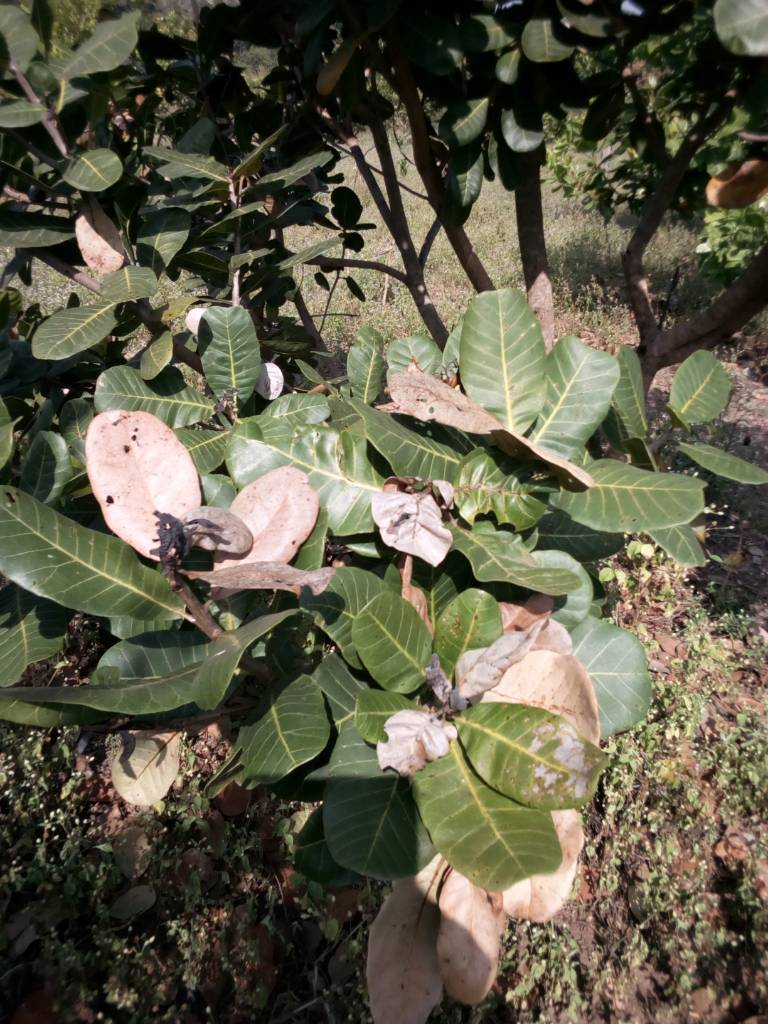Dessèchement des bourgeons: (129, 460, 246, 605)
